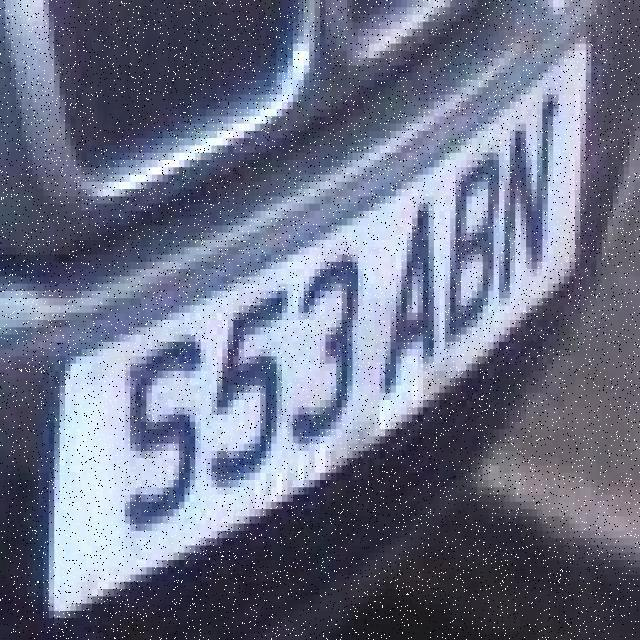LicensePlate: (17, 39, 619, 629)
